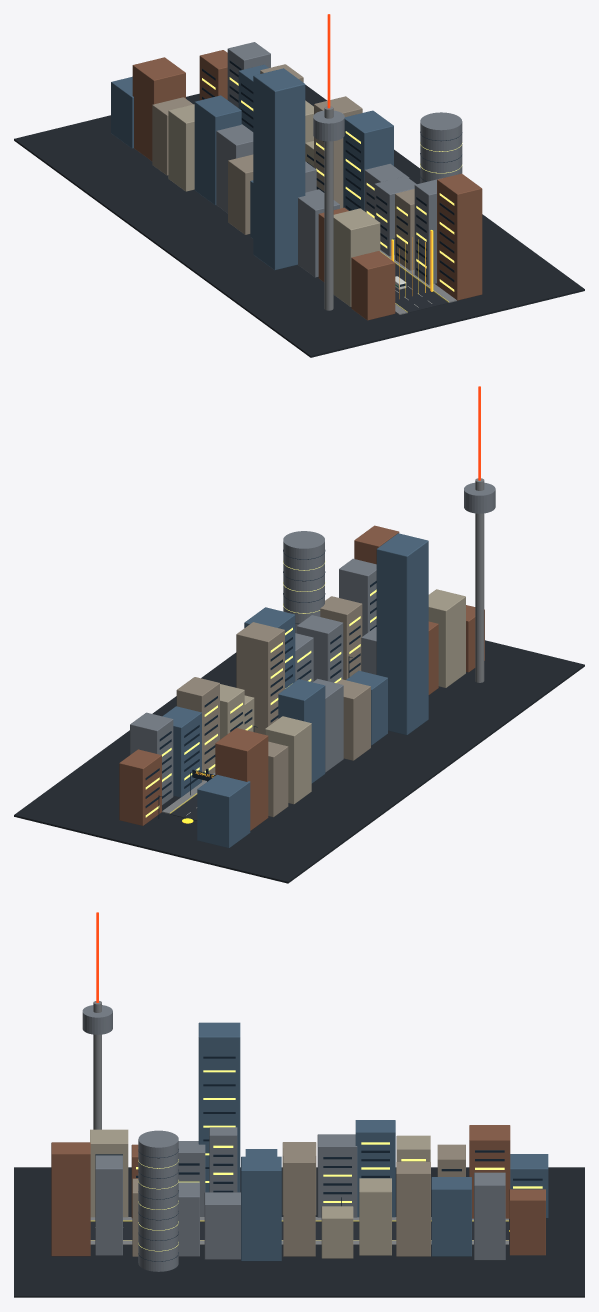
The model's file is Jozi_Runner_CBD_Environment.fbx.
The picture shows the model from 3 angles, top to bottom: view 1: azimuth 30°, elevation 25°; view 2: azimuth 150°, elevation 25°; view 3: azimuth 270°, elevation 25°; orthographic projection. The views are drawn at different scales.
Parts seen in each view (by area): view 1: City_Ground, Carlton_Inspired_Tower, CBD_Block_R_12, CBD_Block_R_07, CBD_Block_L_01, CBD_Block_L_04, CBD_Block_L_11, Ponte_Inspired_Tower, CBD_Block_L_12, CBD_Block_L_03, CBD_Block_R_11, CBD_Block_L_09 (+15 smaller); view 2: City_Ground, Carlton_Inspired_Tower, CBD_Block_R_06, Ponte_Inspired_Tower, CBD_Block_L_00, CBD_Block_L_01, CBD_Block_L_11, CBD_Block_R_00, CBD_Block_L_04, CBD_Block_L_03, CBD_Block_R_02, CBD_Block_L_06 (+17 smaller); view 3: City_Ground, Ponte_Inspired_Tower, Carlton_Inspired_Tower, CBD_Block_R_12, CBD_Block_R_07, CBD_Block_R_06, CBD_Block_R_03, CBD_Block_R_02, CBD_Block_R_01, CBD_Block_R_11, CBD_Block_L_05, CBD_Block_R_04 (+15 smaller).
Boxes of the visible parts, x1,y1,x2,y2 form: City_Ground: (14,85,584,357); Carlton_Inspired_Tower: (253,68,305,270); CBD_Block_R_12: (437,173,482,300); CBD_Block_R_07: (343,110,393,210); CBD_Block_L_01: (132,57,185,161); CBD_Block_L_04: (194,95,241,205); CBD_Block_L_11: (333,208,380,306); Ponte_Inspired_Tower: (420,112,462,183); CBD_Block_L_12: (351,251,395,320); CBD_Block_L_03: (168,104,194,191); CBD_Block_R_11: (414,177,443,284); CBD_Block_L_09: (298,189,339,277); City_Ground: (14,640,584,883); Carlton_Inspired_Tower: (376,533,428,735); CBD_Block_R_06: (236,622,284,734); Ponte_Inspired_Tower: (283,531,324,633); CBD_Block_L_00: (197,774,250,847); CBD_Block_L_01: (215,728,268,830); CBD_Block_L_11: (428,589,465,687); CBD_Block_R_00: (119,749,161,825); CBD_Block_L_04: (278,679,325,783); CBD_Block_L_03: (265,716,311,804); CBD_Block_R_02: (162,706,201,797); CBD_Block_L_06: (336,679,370,760); City_Ground: (14,1167,584,1297); Ponte_Inspired_Tower: (138,1130,178,1271); Carlton_Inspired_Tower: (198,1022,240,1192); CBD_Block_R_12: (51,1142,90,1256); CBD_Block_R_07: (241,1156,281,1261); CBD_Block_R_06: (283,1147,315,1256); CBD_Block_R_03: (396,1162,430,1256); CBD_Block_R_02: (431,1177,471,1256); CBD_Block_R_01: (474,1172,505,1260); CBD_Block_R_11: (95,1155,122,1255); CBD_Block_L_05: (317,1134,357,1217); CBD_Block_R_04: (359,1178,391,1255).
Bounding box in the file's own units: 80 × 82.63 × 150.
